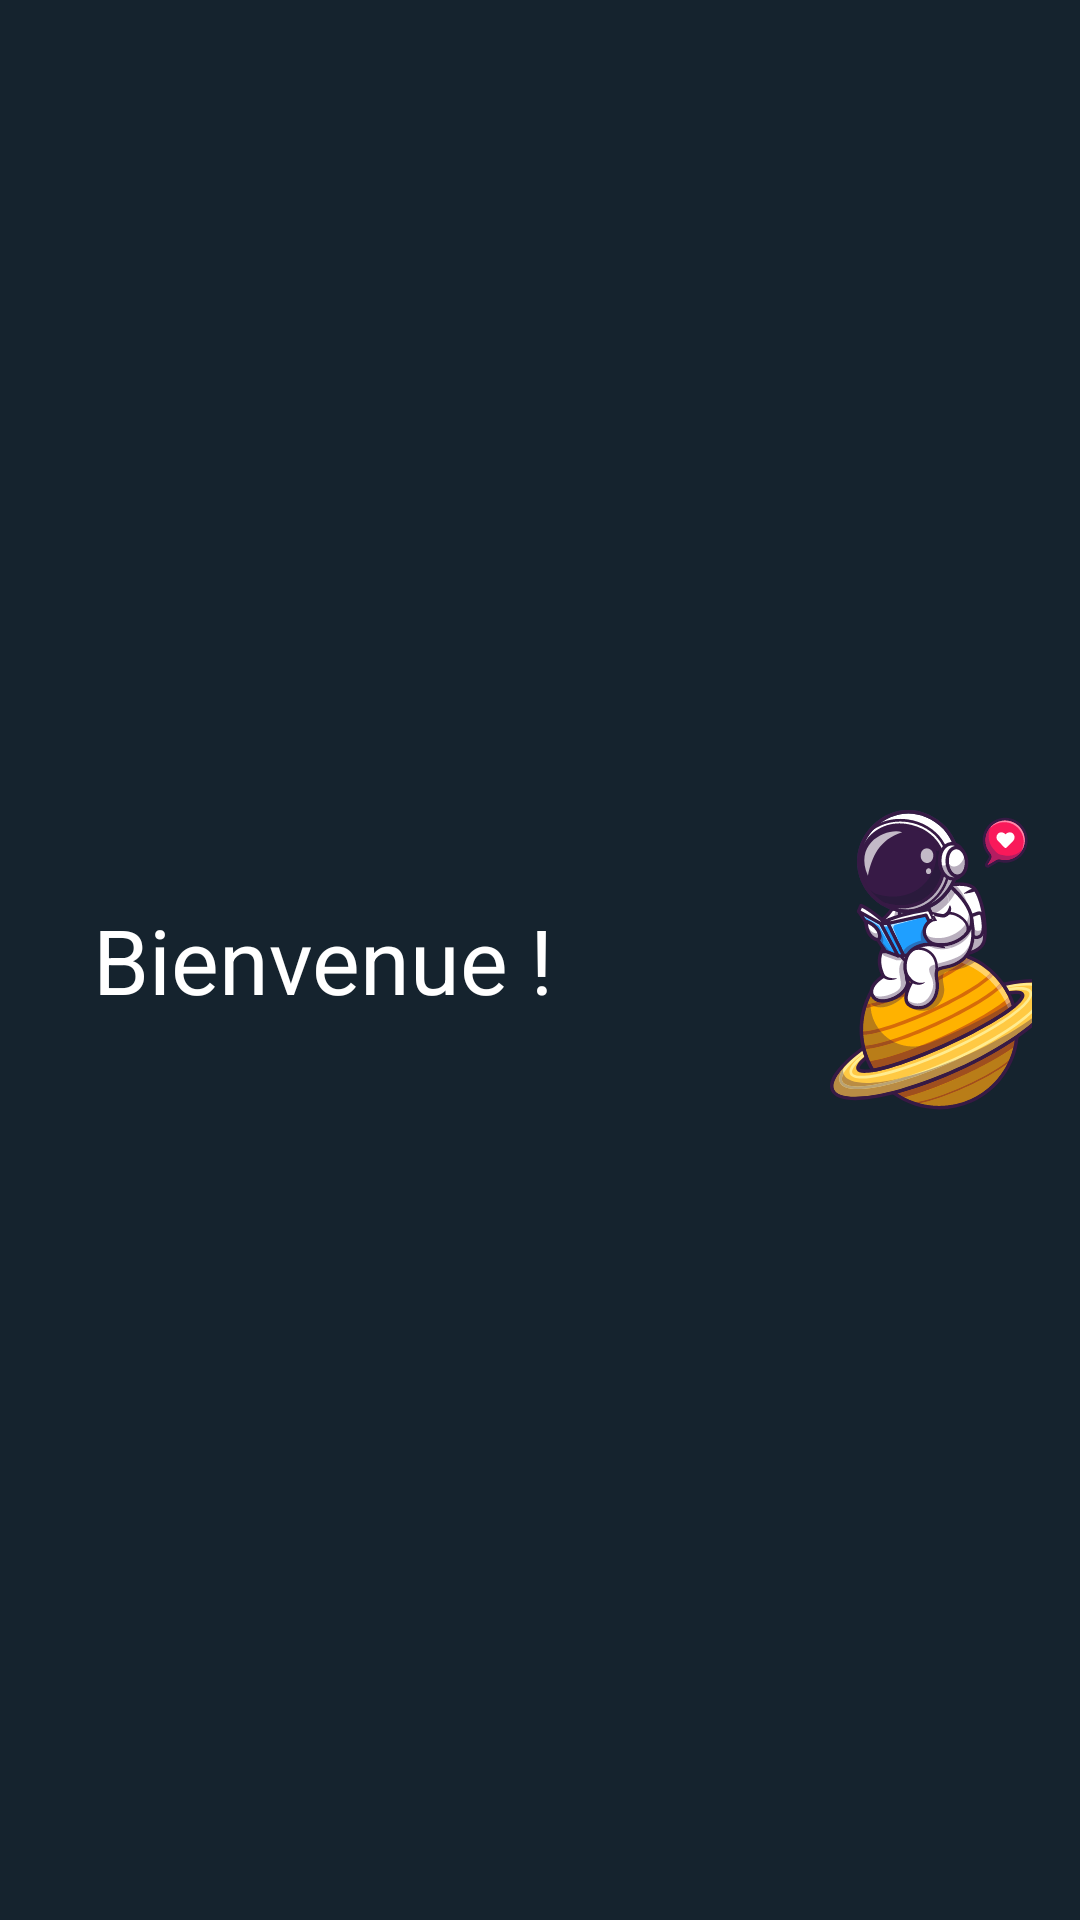

Icons on this 1080x1920 Android screen, each with the point to tap as (x,y):
astronaut: (931,959)
